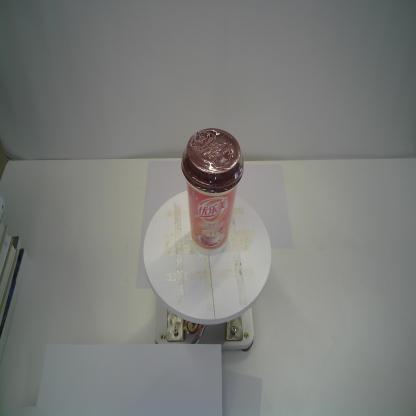Instant Drink: (180, 125, 244, 257)
